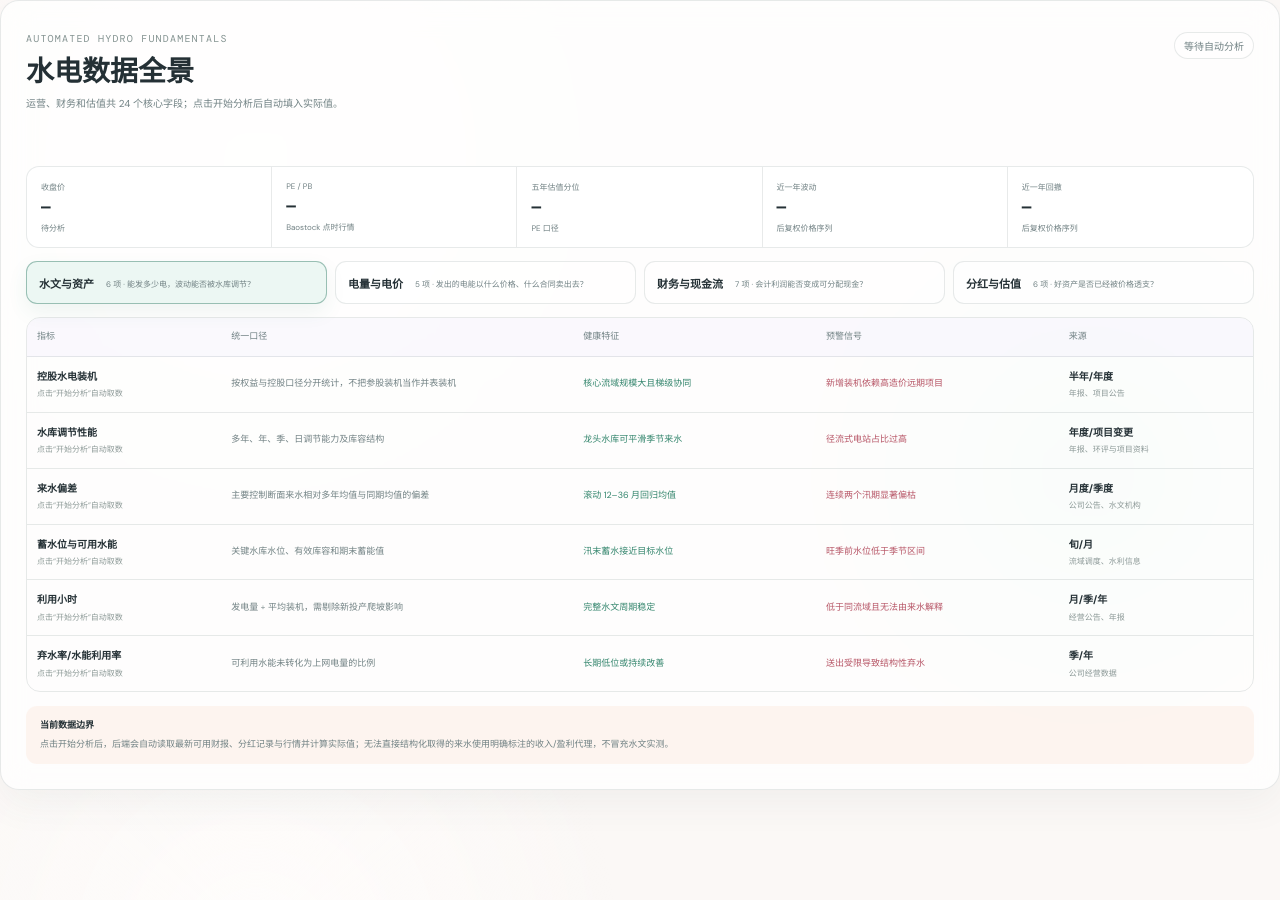
Test case: industry interaction flows › shows the hydro-specific data dictionary without reusing the generic page
The image size is (1280, 900).
Expected: the heading "水电数据全景" is shown, 26,53 -> 194,90
Expected: the text "运营、财务和估值共 24 个核心字段；点击开始分析后自动填入实际值。" is shown, 26,96 -> 343,112
Click the button "财务与现金流 7 项 · 会计利润能否变成可分配现金？": (794, 283) 644,261 -> 945,304
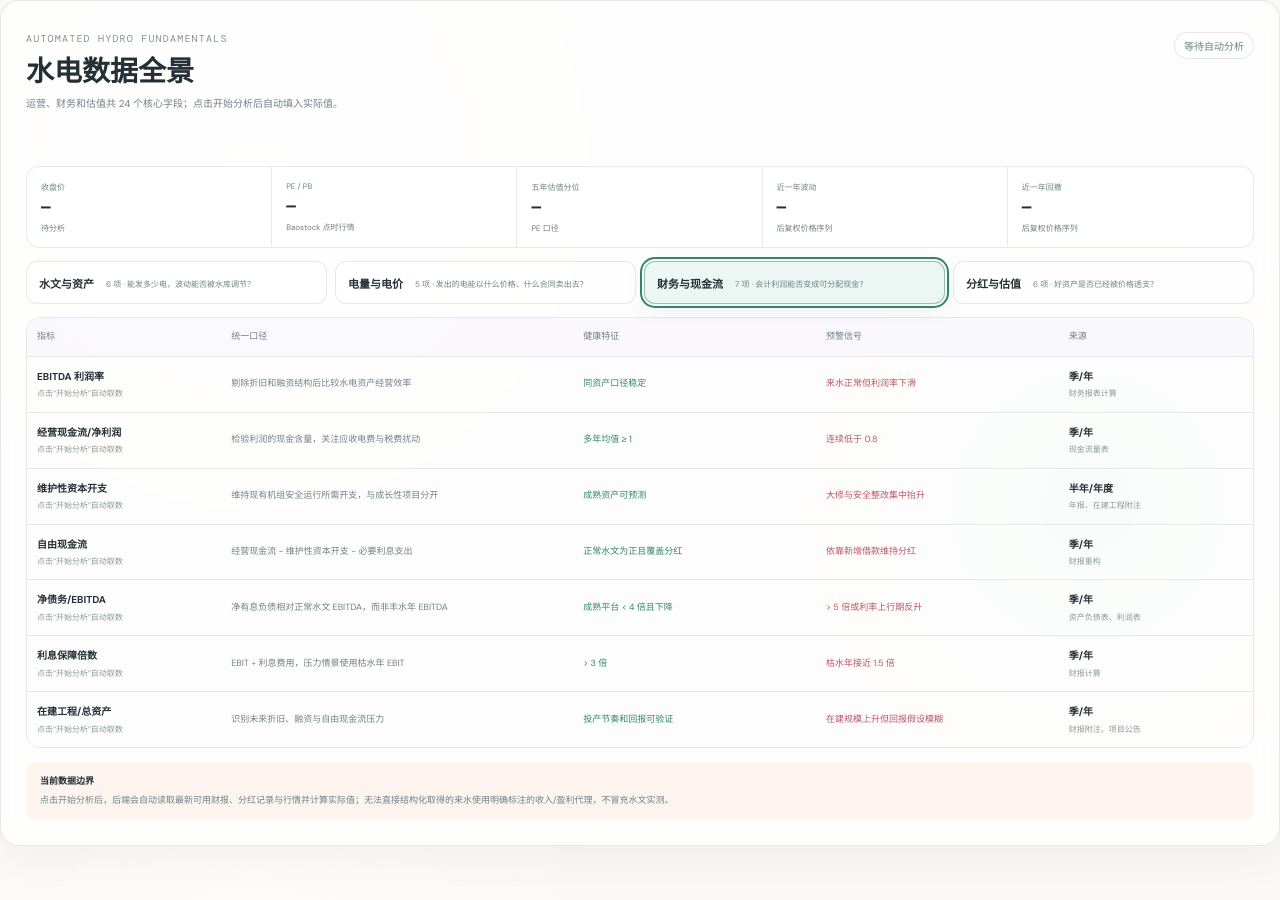
Result: the text "净债务/EBITDA" is shown at 37,593 -> 106,606
Result: the text "利息保障倍数" is shown at 37,649 -> 97,662
